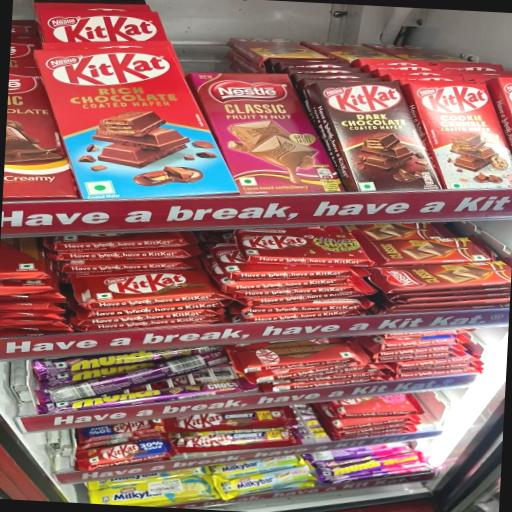kitkat: (52, 252, 219, 325), (221, 222, 394, 284)
